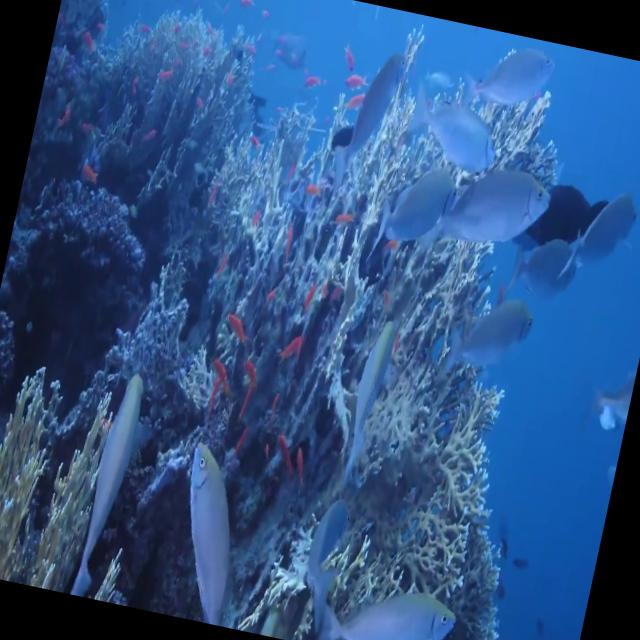fish: (57, 351, 167, 604), (153, 434, 260, 626), (428, 152, 572, 280), (357, 132, 470, 276), (328, 297, 409, 491), (327, 36, 422, 198), (440, 268, 548, 390), (314, 558, 464, 640), (458, 26, 562, 133), (398, 79, 503, 173), (528, 164, 610, 258), (567, 174, 640, 278), (507, 220, 583, 310)
